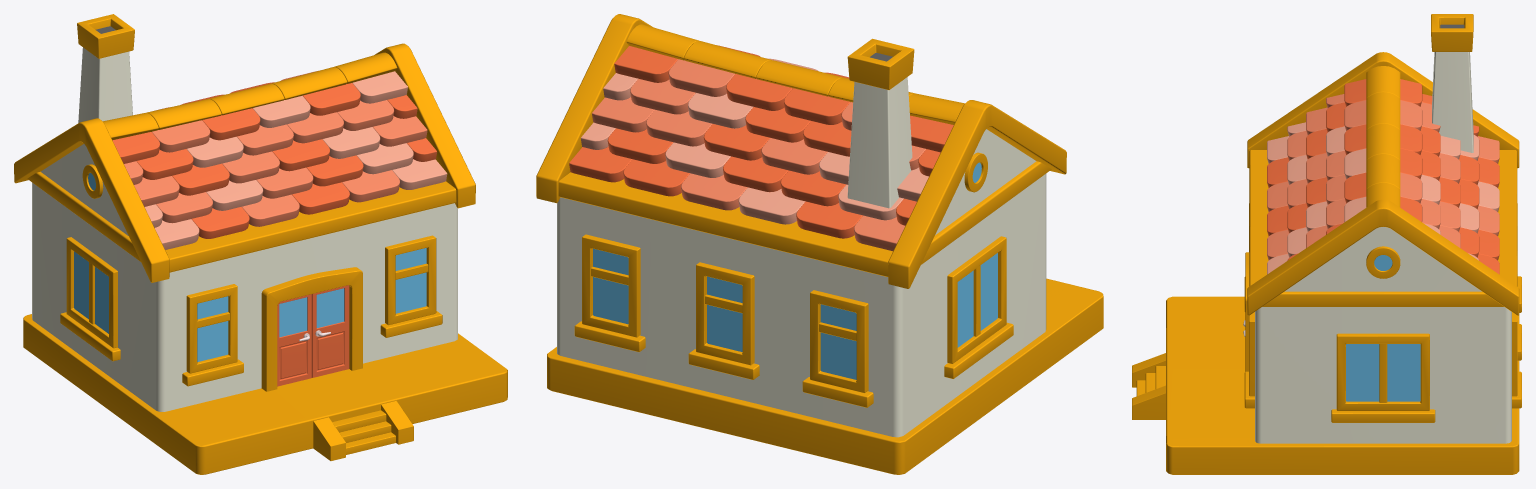
Rendered from Town_12_House_1.glb.
3 renders of one model, left to right at view 1: azimuth 30°, elevation 25°; view 2: azimuth 150°, elevation 25°; view 3: azimuth 270°, elevation 25°, orthographic. The views are drawn at different scales.
Parts seen in each view (by area): view 1: Town_12_House_1; view 2: Town_12_House_1; view 3: Town_12_House_1.
Boxes of the visible parts, x1=… form: Town_12_House_1: x1=14, y1=14, x2=507, y2=474; Town_12_House_1: x1=536, y1=14, x2=1103, y2=474; Town_12_House_1: x1=1132, y1=14, x2=1521, y2=474.
Size of the model in its own units: 8.54 by 8.33 by 8.98.
1 material, 1 textured.
